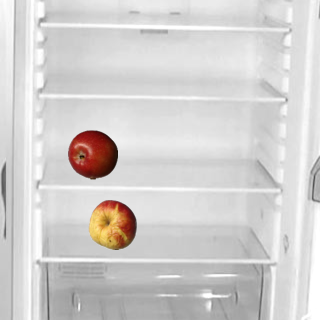Apple Braeburn: (67, 129, 117, 179)
Apple Red Yellow 1: (87, 199, 137, 249)
